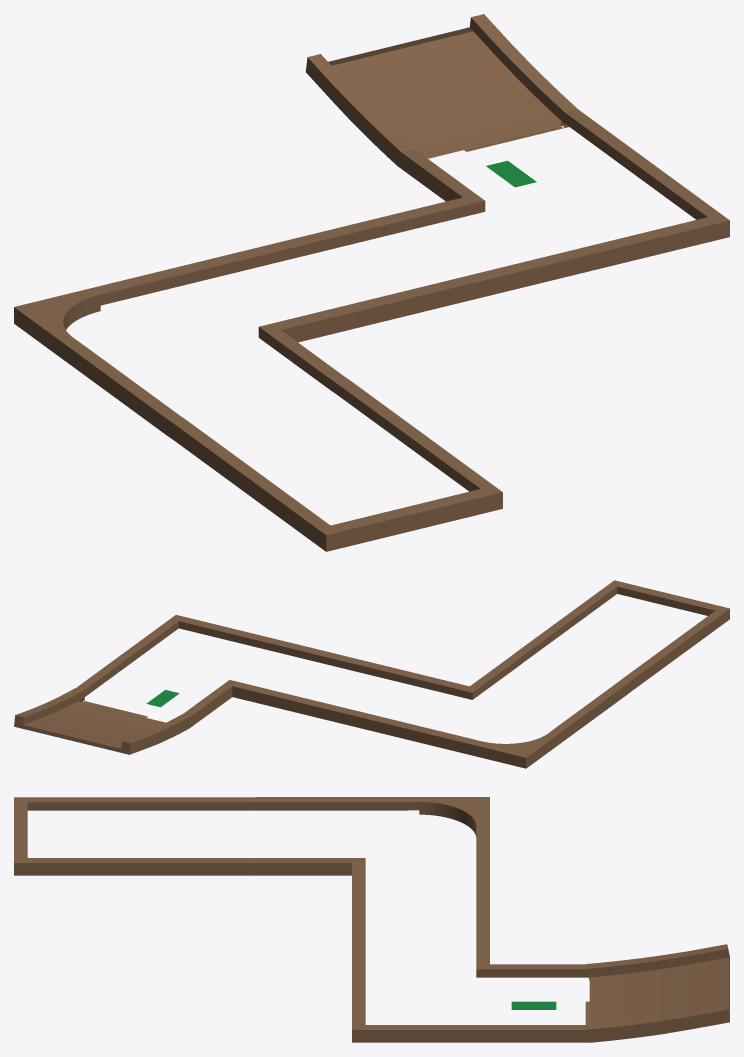
File: CourseWalls1.fbx
3 renders of one model, top to bottom at view 1: azimuth 30°, elevation 25°; view 2: azimuth 150°, elevation 25°; view 3: azimuth 270°, elevation 25°, orthographic. The views are drawn at different scales.
Parts seen in each view (by area): view 1: Cube.014; view 2: Cube.014; view 3: Cube.014.
Part boxes in pixels (x1,y1,x2,y2): Cube.014: (14,14,729,551); Cube.014: (14,580,729,768); Cube.014: (14,797,729,1042).
Size of the model in its own units: 1063 by 70.03 by 1380.
